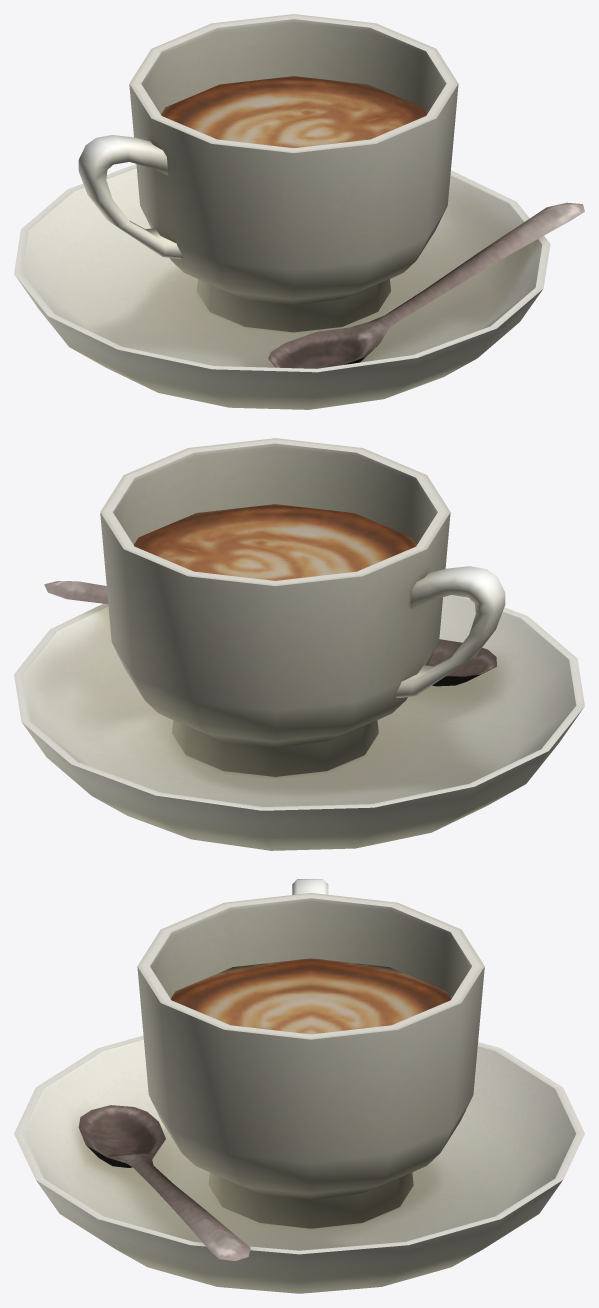
The model's file is ShenFuXiuXiShi_01_kafei_01.FBX.
3 renders of one model, top to bottom at view 1: azimuth 30°, elevation 25°; view 2: azimuth 150°, elevation 25°; view 3: azimuth 270°, elevation 25°, orthographic. The views are drawn at different scales.
Parts seen in each view (by area): view 1: ShenFuXiuXiShi_01_kafei_01; view 2: ShenFuXiuXiShi_01_kafei_01; view 3: ShenFuXiuXiShi_01_kafei_01.
Part boxes in pixels (x1,y1,x2,y2): ShenFuXiuXiShi_01_kafei_01: (14, 14, 584, 409); ShenFuXiuXiShi_01_kafei_01: (14, 438, 584, 850); ShenFuXiuXiShi_01_kafei_01: (14, 879, 584, 1293).
Size of the model in its own units: 105 by 46.18 by 97.34.
